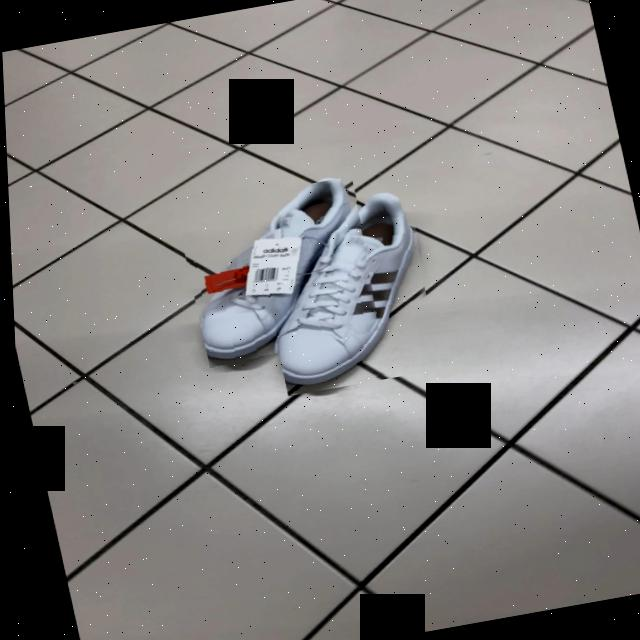shoe: (197, 178, 356, 364), (273, 193, 415, 393)
